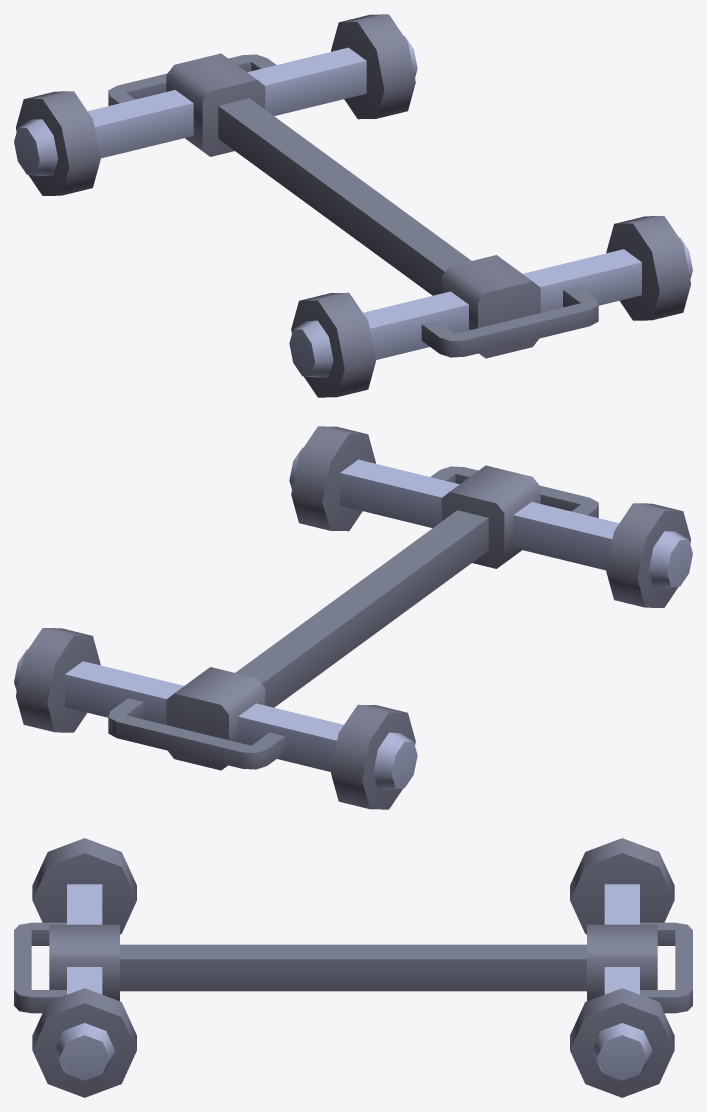
Rendered from debris-drivetrain.fbx.
3 views of the same model, one above another, from view 1: azimuth 30°, elevation 25°; view 2: azimuth 150°, elevation 25°; view 3: azimuth 270°, elevation 25° (orthographic). The views are drawn at different scales.
Parts seen in each view (by area): view 1: debris-drivetrain; view 2: debris-drivetrain; view 3: debris-drivetrain.
Boxes of the visible parts, x1=… form: debris-drivetrain: x1=14, y1=14, x2=692, y2=397; debris-drivetrain: x1=14, y1=426, x2=692, y2=809; debris-drivetrain: x1=14, y1=838, x2=692, y2=1097.
Size of the model in its own units: 120 by 29.6 by 192.
Materials: 1 (1 with a texture image).
